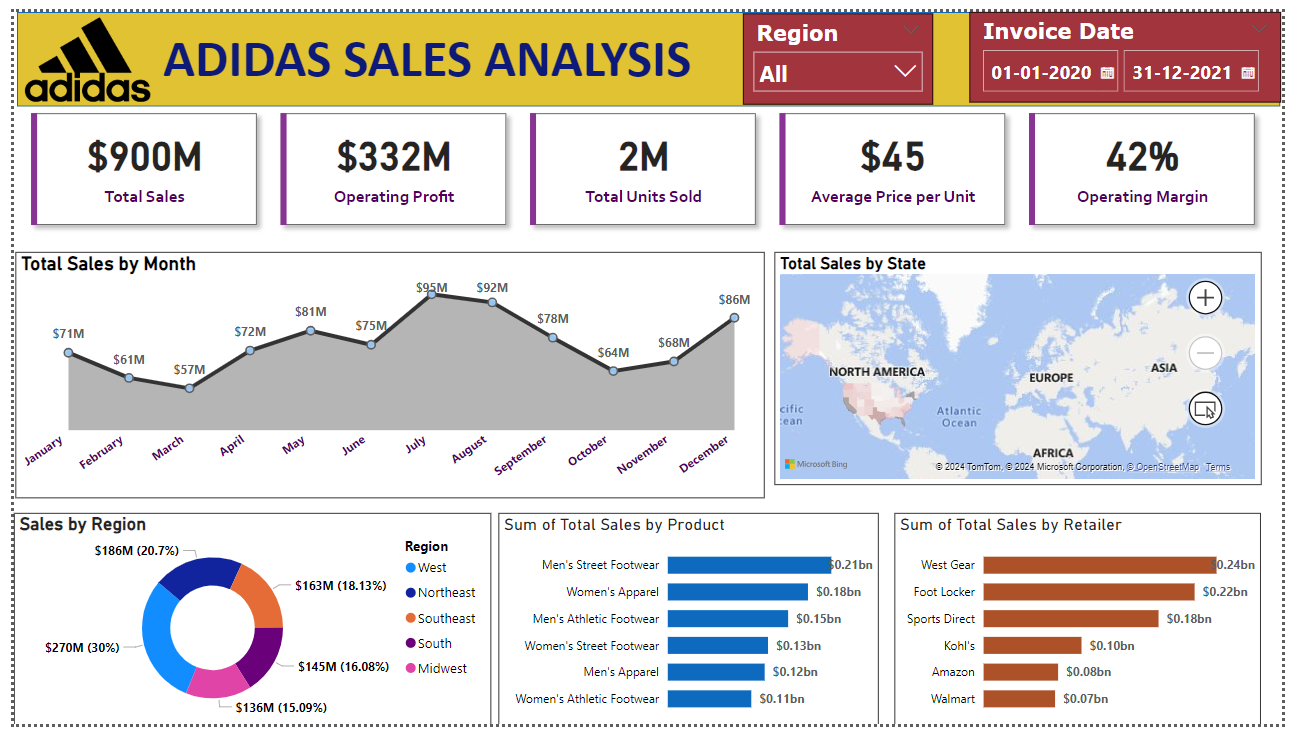

What the dashboard file says about the page in this screenshot:
{"tool":"powerbi","page":{"name":"Page 1","canvas":[1280,720],"ordinal":0},"visuals":[{"type":"shape","box":[3.2,0,1276,95.5],"z":0},{"type":"textbox","box":[145.7,9.7,563.5,74.5],"z":1000},{"type":"cardVisual","fields":{"Data":["Sum(Data Sales Adidas.Total Sales)","Sum(Data Sales Adidas.Operating Profit)","Sum(Data Sales Adidas.Units Sold)","Avg(Data Sales Adidas.Price per Unit)","Avg(Data Sales Adidas.Operating Margin)"]},"box":[0,84.2,1272.7,147.3],"z":2000},{"type":"areaChart","title":"Total Sales by Month","fields":{"Y":["Sum(Data Sales Adidas.Total Sales)"],"Category":["Data Sales Adidas.Invoice Date.Variation.Date Hierarchy.Month"]},"box":[1.7,241.7,756.7,248.3],"z":3000},{"type":"filledMap","title":"Total Sales by State","fields":{"Category":["Data Sales Adidas.State"]},"box":[768.3,241.7,491.7,235],"z":4000},{"type":"donutChart","title":" Sales by Region","fields":{"Y":["Sum(Data Sales Adidas.Total Sales)"],"Category":["Data Sales Adidas.Region"]},"box":[0,506,482,214],"z":5000},{"type":"barChart","fields":{"Y":["Sum(Data Sales Adidas.Total Sales)"],"Category":["Data Sales Adidas.Product"]},"box":[490,506,384,214],"z":6000},{"type":"barChart","fields":{"Y":["Sum(Data Sales Adidas.Total Sales)"],"Category":["Data Sales Adidas.Retailer"]},"box":[890,506,370,214],"z":7000},{"type":"slicer","fields":{"Values":["Data Sales Adidas.Invoice Date"]},"box":[964.7,0,314.7,91.2],"z":8000},{"type":"slicer","fields":{"Values":["Data Sales Adidas.Region"]},"box":[736.7,1.7,191.7,91.7],"z":9000},{"type":"image","box":[3.2,0,142.5,95.5],"z":9001}]}

Visuals, with their boxes in screenshot pixels (x1, y1, x2, y2), scaled from the page's 1280x720 canvas onto the 1298x731 screenshot:
shape: select_region(3, 0, 1297, 97)
textbox: select_region(148, 10, 719, 85)
cardVisual - Sum(Data Sales Adidas.Total Sales) x Sum(Data Sales Adidas.Operating Profit): select_region(0, 85, 1291, 235)
"Total Sales by Month" areaChart: select_region(2, 245, 769, 497)
"Total Sales by State" filledMap: select_region(779, 245, 1278, 484)
" Sales by Region" donutChart: select_region(0, 514, 489, 730)
barChart - Sum(Data Sales Adidas.Total Sales) x Data Sales Adidas.Product: select_region(497, 514, 886, 730)
barChart - Sum(Data Sales Adidas.Total Sales) x Data Sales Adidas.Retailer: select_region(903, 514, 1278, 730)
slicer - Data Sales Adidas.Invoice Date: select_region(978, 0, 1297, 93)
slicer - Data Sales Adidas.Region: select_region(747, 2, 941, 95)
image: select_region(3, 0, 148, 97)
